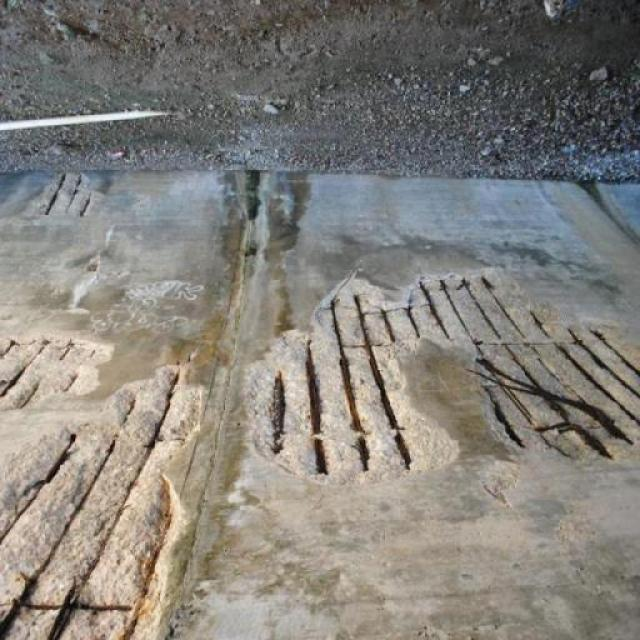D0w0: (0, 264, 639, 639), (26, 168, 179, 340)
